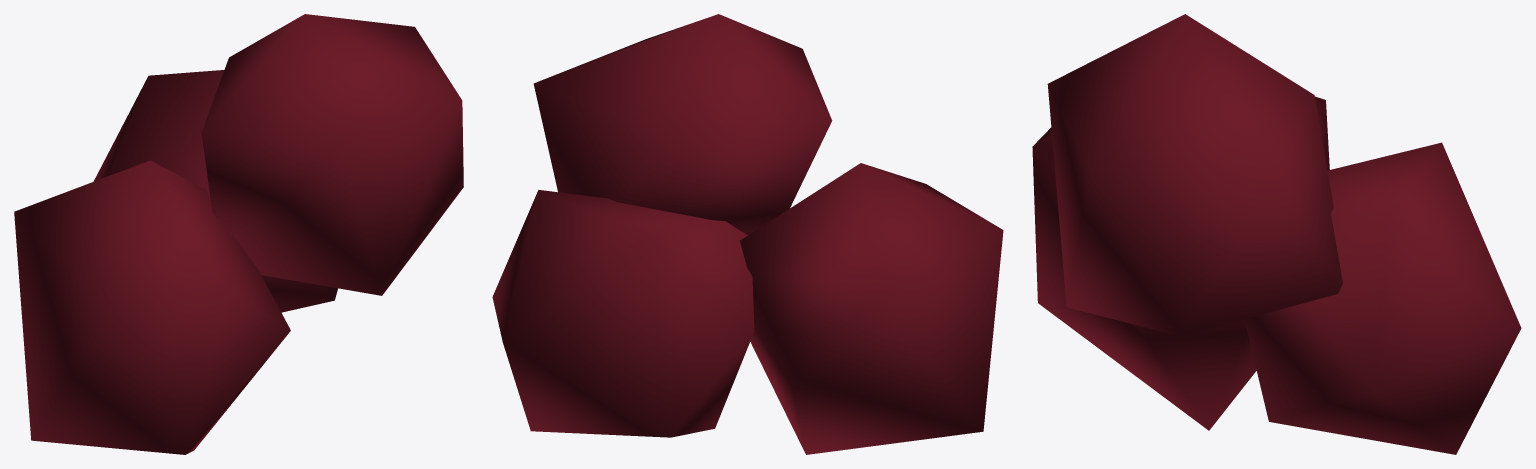
Rendered from whCypressCone.glb.
The picture shows the model from 3 angles, left to right: view 1: azimuth 30°, elevation 25°; view 2: azimuth 150°, elevation 25°; view 3: azimuth 270°, elevation 25°; orthographic projection. The views are drawn at different scales.
Visible parts, largest first — view 1: Icosphere; view 2: Icosphere; view 3: Icosphere.
Part boxes in pixels (x1=…): Icosphere: x1=14, y1=14, x2=463, y2=454; Icosphere: x1=492, y1=14, x2=1003, y2=454; Icosphere: x1=1032, y1=14, x2=1521, y2=454.
Size of the model in its own units: 0.1825 by 0.1704 by 0.16.
